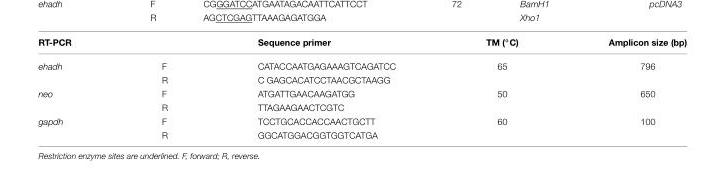table: (37, 37, 686, 139)
table column: (211, 37, 440, 139), (562, 37, 686, 139), (440, 37, 562, 139), (115, 37, 211, 139), (37, 37, 115, 139)
table column header: (37, 37, 686, 54)
table row: (37, 54, 686, 73), (37, 37, 686, 54), (37, 86, 686, 100), (37, 100, 686, 114), (37, 114, 686, 128), (37, 73, 686, 86), (37, 128, 686, 139)
table spanning cell: (37, 54, 115, 86), (37, 86, 115, 114), (37, 114, 115, 139)
